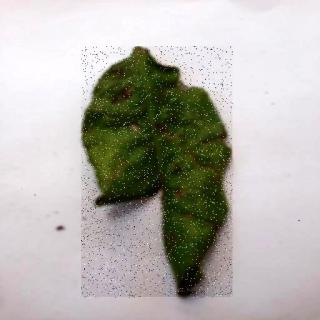Algal Leaf: (83, 48, 234, 299)
